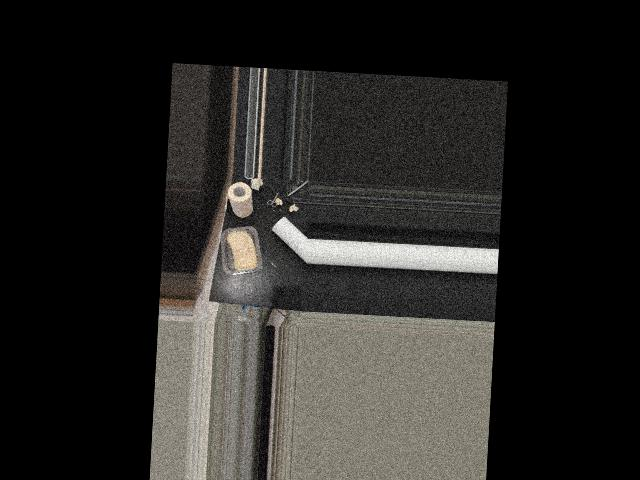cheese: (222, 224, 263, 277)
